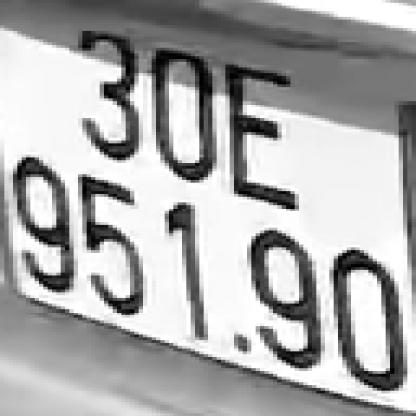0: (329, 244, 403, 390), (152, 48, 216, 183)
1: (160, 202, 221, 340)
3: (74, 31, 138, 163)
5: (82, 174, 152, 318)
9: (243, 225, 325, 368), (13, 163, 78, 290)
E: (221, 56, 308, 208)
